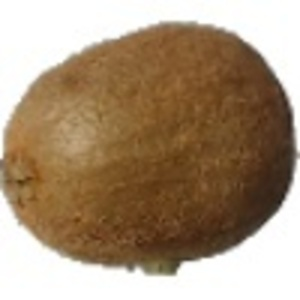kiwi: (1, 20, 300, 279)
